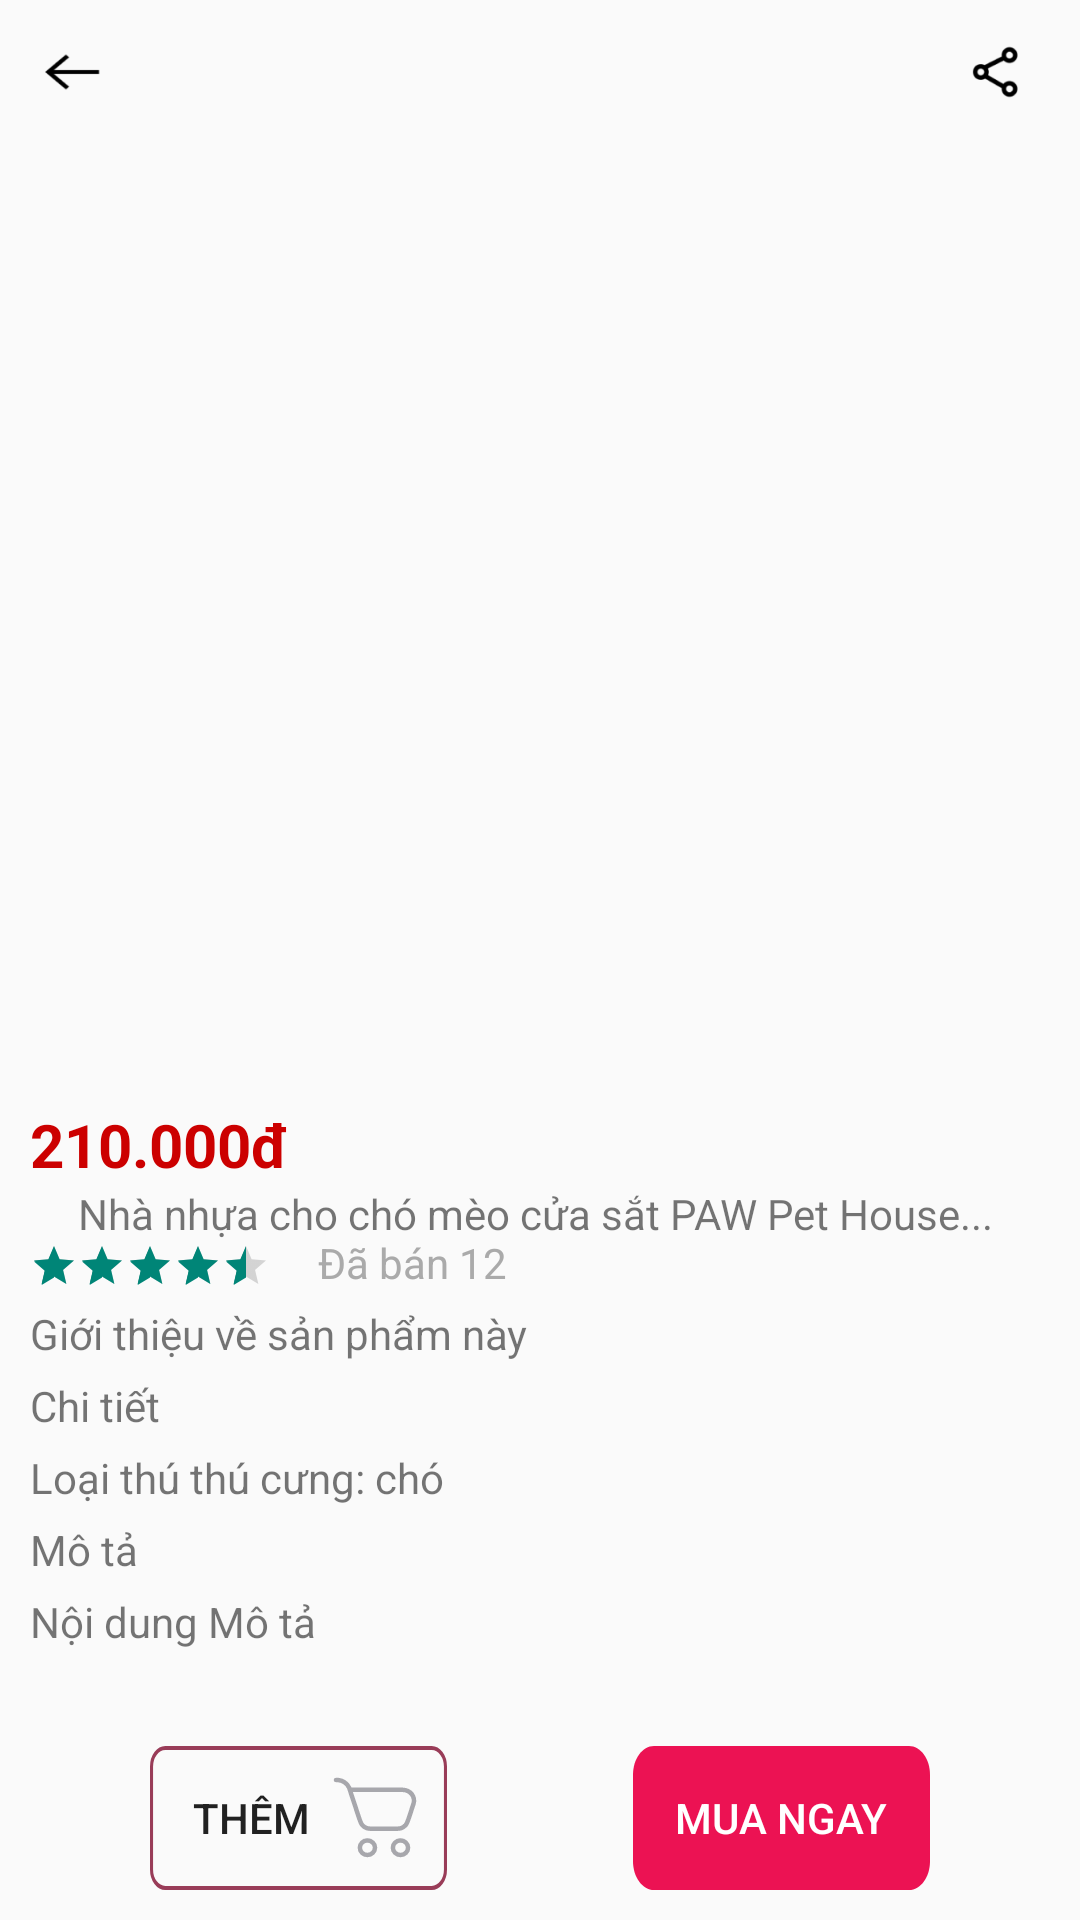

Screen size 1080 × 1920. Icon name, then its center in pixels as point (x, y):
left: point (72, 72)
share: point (995, 72)
